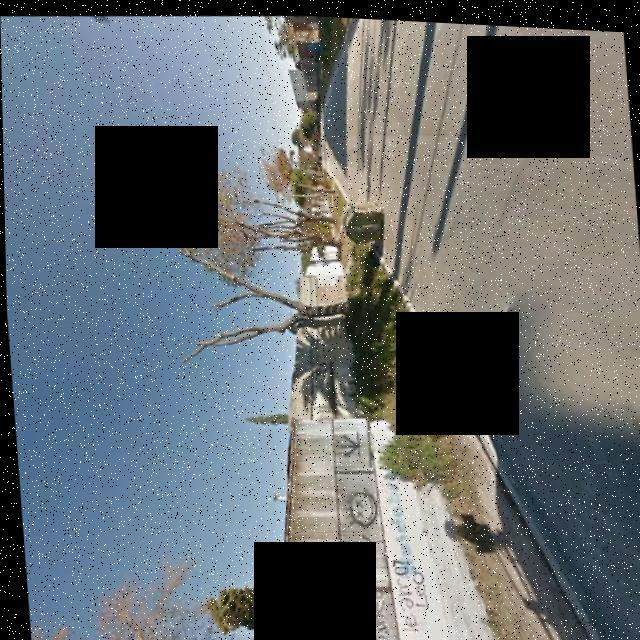bin: (333, 187, 394, 247)
